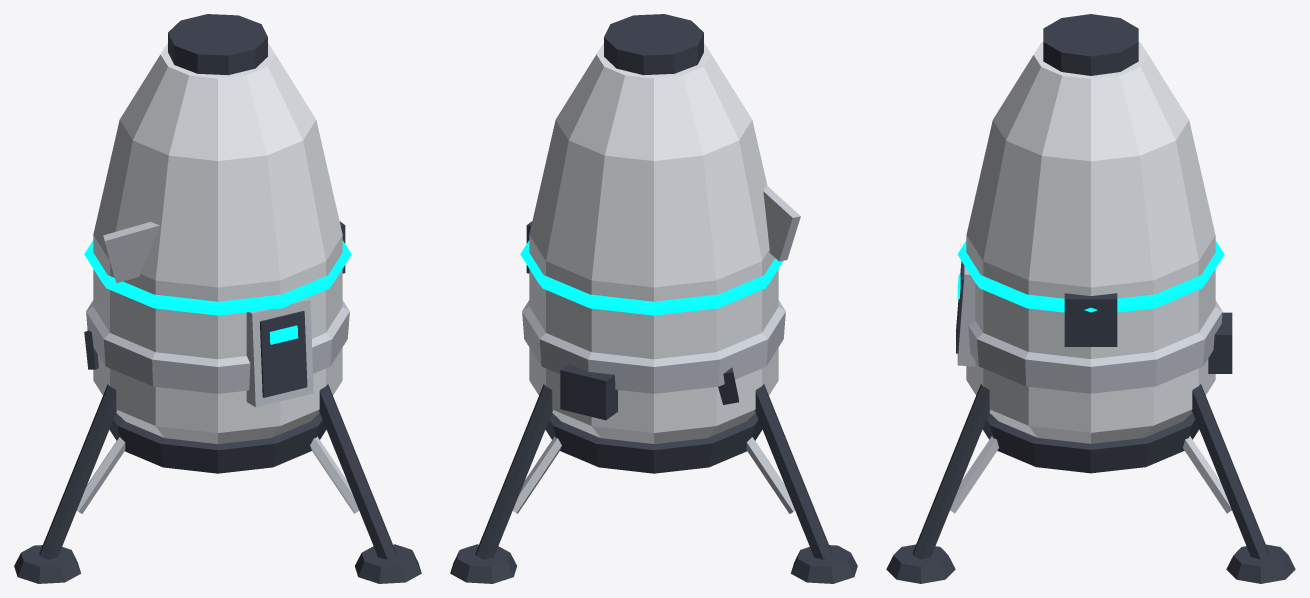
Rendered from Ship.fbx.
3 renders of one model, left to right at view 1: azimuth 30°, elevation 25°; view 2: azimuth 150°, elevation 25°; view 3: azimuth 270°, elevation 25°, orthographic.
Visible parts, largest first — view 1: SM_Ship_MAT_HullWhite, SM_Ship_MAT_HullDark, SM_Ship_MAT_HullGrey, SM_Ship_MAT_GlowCyan; view 2: SM_Ship_MAT_HullWhite, SM_Ship_MAT_HullDark, SM_Ship_MAT_HullGrey, SM_Ship_MAT_GlowCyan; view 3: SM_Ship_MAT_HullWhite, SM_Ship_MAT_HullDark, SM_Ship_MAT_HullGrey, SM_Ship_MAT_GlowCyan.
Boxes of the visible parts, left/top/right/bottom form: SM_Ship_MAT_HullWhite: left=93, top=43, right=342, bottom=443; SM_Ship_MAT_HullDark: left=14, top=14, right=421, bottom=583; SM_Ship_MAT_HullGrey: left=77, top=222, right=358, bottom=513; SM_Ship_MAT_GlowCyan: left=84, top=240, right=351, bottom=344; SM_Ship_MAT_HullWhite: left=529, top=43, right=778, bottom=443; SM_Ship_MAT_HullDark: left=450, top=14, right=857, bottom=583; SM_Ship_MAT_HullGrey: left=513, top=185, right=800, bottom=513; SM_Ship_MAT_GlowCyan: left=520, top=240, right=783, bottom=315; SM_Ship_MAT_HullWhite: left=966, top=42, right=1215, bottom=443; SM_Ship_MAT_HullDark: left=886, top=14, right=1295, bottom=583; SM_Ship_MAT_HullGrey: left=950, top=265, right=1231, bottom=513; SM_Ship_MAT_GlowCyan: left=957, top=241, right=1224, bottom=312.
Size of the model in its own units: 4.26 by 6.36 by 4.79.
